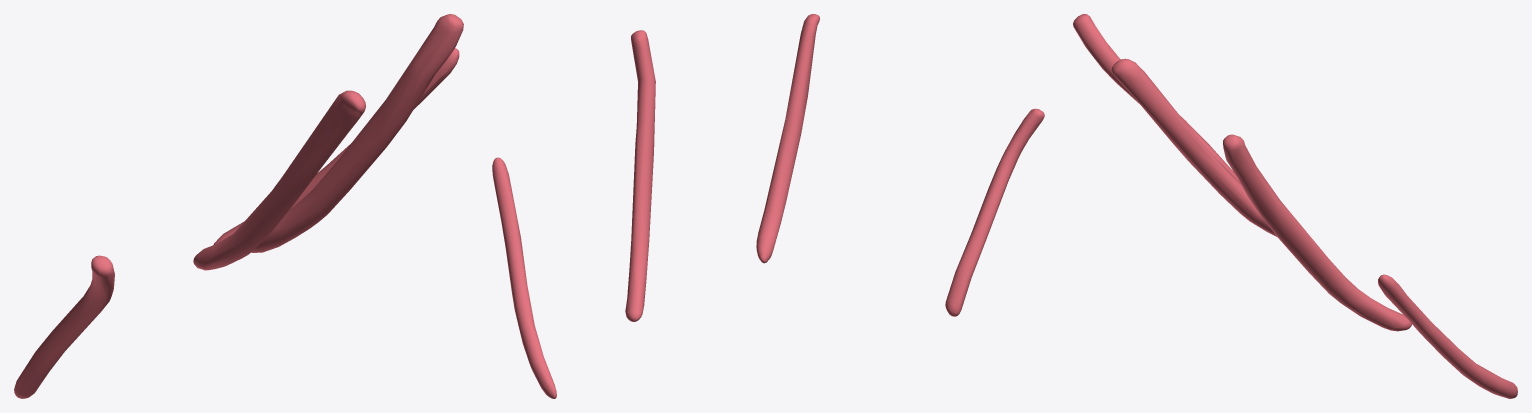
File: fma70922_fj2100.glb
3 renders of one model, left to right at view 1: azimuth 30°, elevation 25°; view 2: azimuth 150°, elevation 25°; view 3: azimuth 270°, elevation 25°, orthographic. The views are drawn at different scales.
Visible parts, largest first — view 1: FMA70922_FJ2100; view 2: FMA70922_FJ2100; view 3: FMA70922_FJ2100.
Boxes of the visible parts, x1,y1,x2,y2 form: FMA70922_FJ2100: [14, 14, 463, 398]; FMA70922_FJ2100: [492, 14, 1044, 398]; FMA70922_FJ2100: [1073, 14, 1517, 398].
Bounding box in the file's own units: 0.041 × 0.026 × 0.0356.
